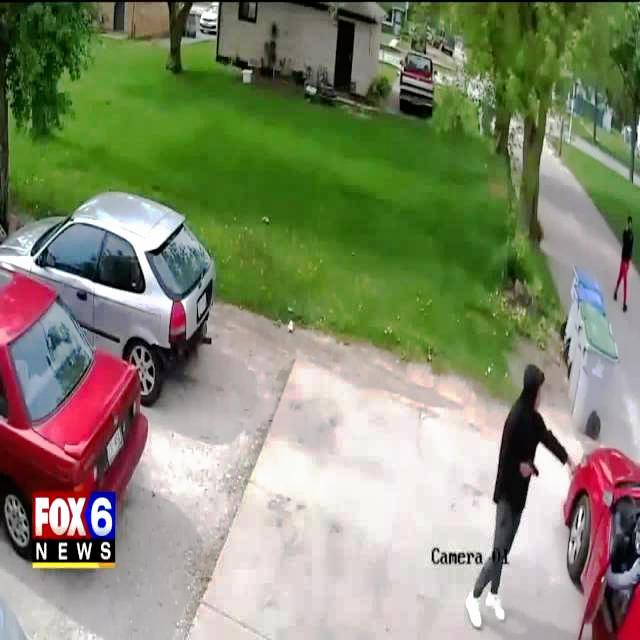Gun: (514, 456, 545, 490)
